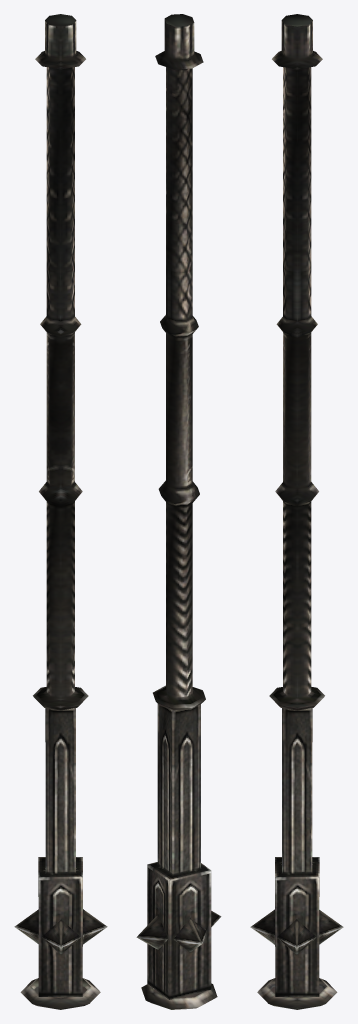
File: heitie_grip_default.FBX
3 renders of one model, left to right at view 1: azimuth 90°, elevation 25°; view 2: azimuth 210°, elevation 25°; view 3: azimuth 270°, elevation 25°, orthographic.
Parts seen in each view (by area): view 1: heitie_grip_default; view 2: heitie_grip_default; view 3: heitie_grip_default.
Part boxes in pixels (bbox=[...]): heitie_grip_default: bbox=[14, 14, 107, 1009]; heitie_grip_default: bbox=[136, 14, 221, 1009]; heitie_grip_default: bbox=[250, 14, 343, 1009].
Bounding box in the file's own units: 15.85 × 174 × 15.08.
1 material, 1 textured.
